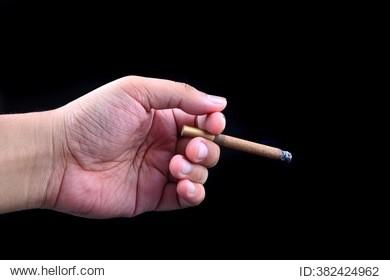Cigarette: (181, 124, 292, 160)
